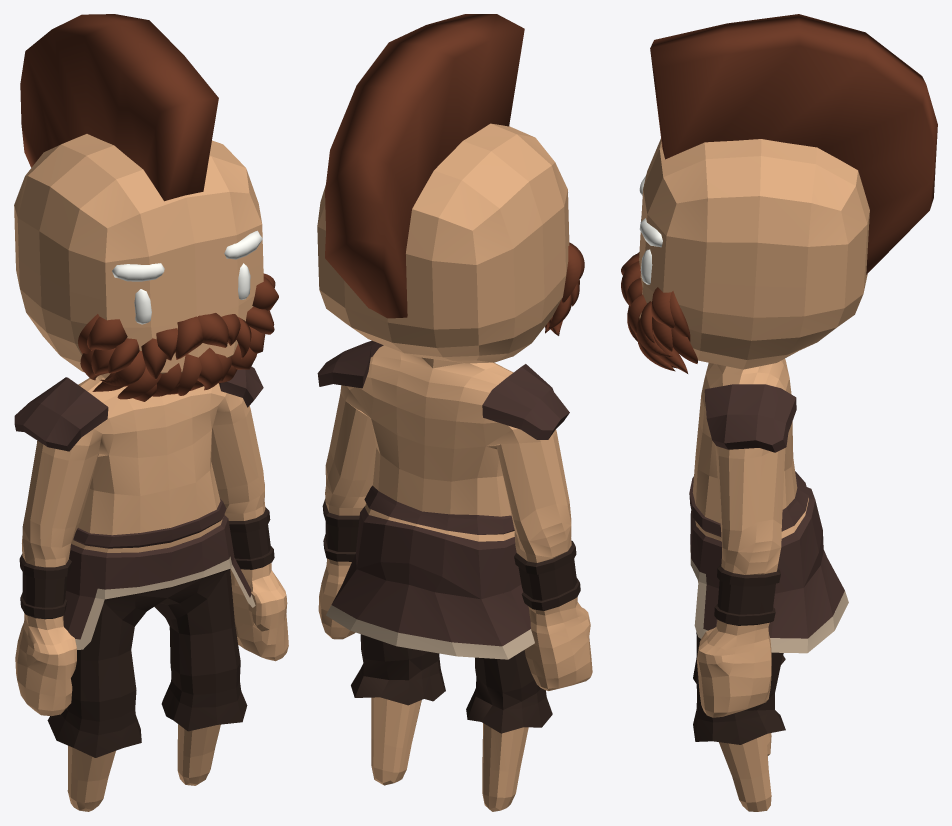
File: debout-viking-male.glb
The picture shows the model from 3 angles, left to right: view 1: azimuth 30°, elevation 25°; view 2: azimuth 150°, elevation 25°; view 3: azimuth 270°, elevation 25°; orthographic projection.
Parts seen in each view (by area): view 1: Cube004, Cube004_4, Cube004_3, Cube004_2, Cube004_5, Cube004_1; view 2: Cube004, Cube004_4, Cube004_2, Cube004_3, Cube004_1; view 3: Cube004, Cube004_4, Cube004_2, Cube004_3, Cube004_1, Cube004_5.
Part boxes in pixels (left/top/right/bottom): Cube004: left=14, top=134, right=288, bottom=811; Cube004_4: left=20, top=14, right=278, bottom=401; Cube004_3: left=19, top=507, right=274, bottom=757; Cube004_2: left=14, top=366, right=263, bottom=639; Cube004_5: left=112, top=230, right=262, bottom=324; Cube004_1: left=75, top=556, right=255, bottom=649; Cube004: left=317, top=123, right=592, bottom=811; Cube004_4: left=325, top=14, right=584, bottom=335; Cube004_2: left=317, top=340, right=569, bottom=646; Cube004_3: left=322, top=499, right=580, bottom=733; Cube004_1: left=326, top=605, right=534, bottom=659; Cube004: left=639, top=139, right=869, bottom=811; Cube004_4: left=621, top=14, right=937, bottom=373; Cube004_2: left=689, top=384, right=844, bottom=638; Cube004_3: left=693, top=528, right=785, bottom=744; Cube004_1: left=690, top=545, right=848, bottom=653; Cube004_5: left=639, top=176, right=662, bottom=284.
Bounding box in the file's own units: 0.6605 × 1.83 × 0.6921.
